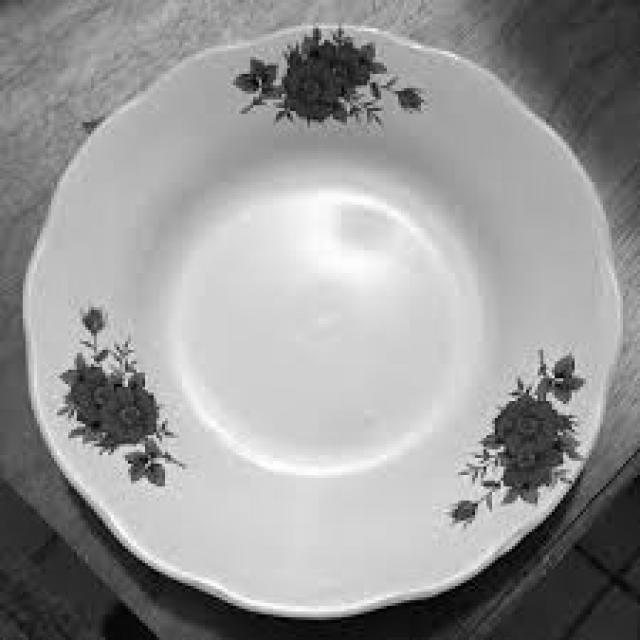dish: (16, 6, 636, 626)
